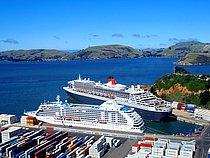Ship: (63, 73, 177, 126), (23, 97, 150, 137)
